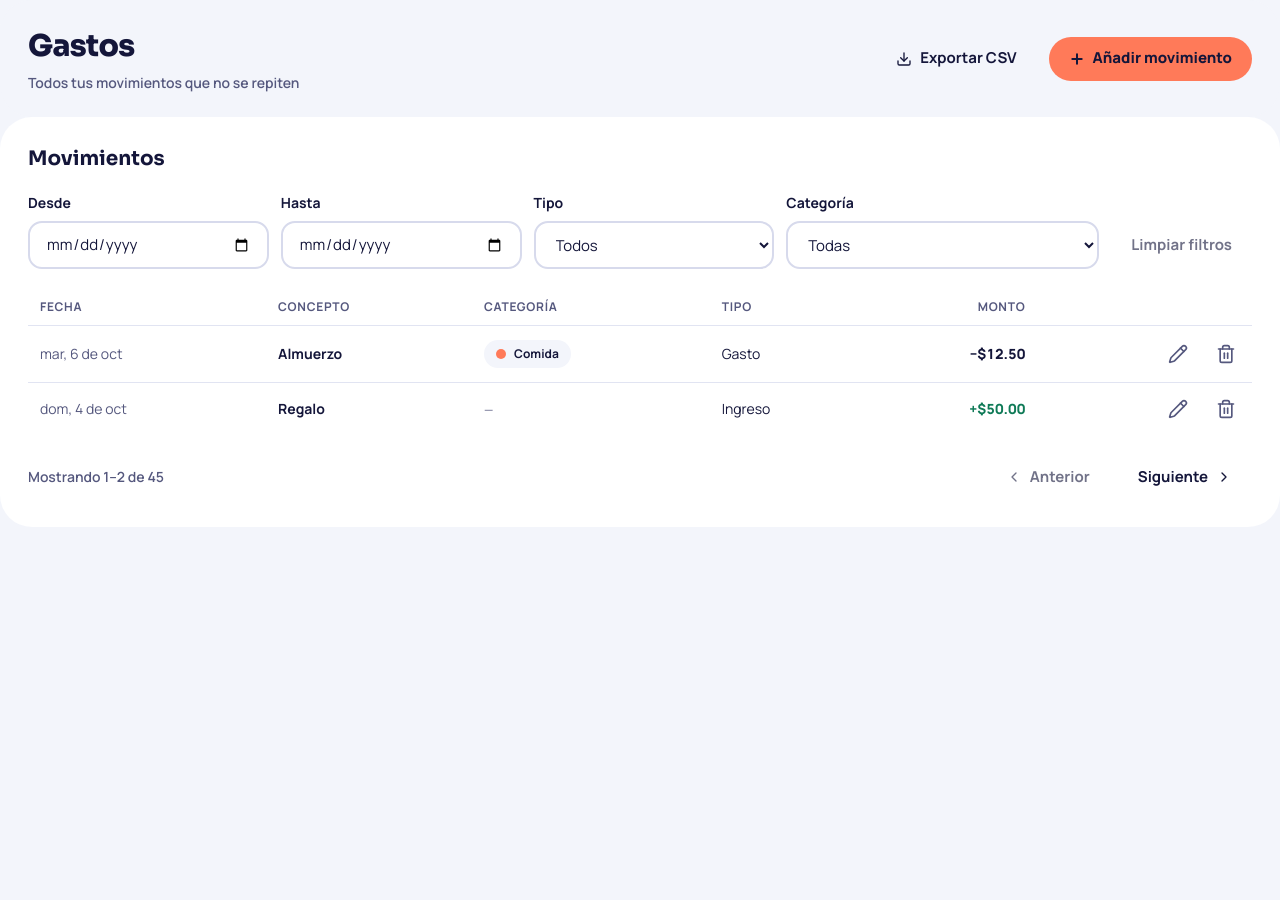
it: TransactionsPage › edits a movement with its values prefilled
The image size is (1280, 900).
Click the 1st button named "Editar Almuerzo": (1178, 354) [1156,332,1200,376]
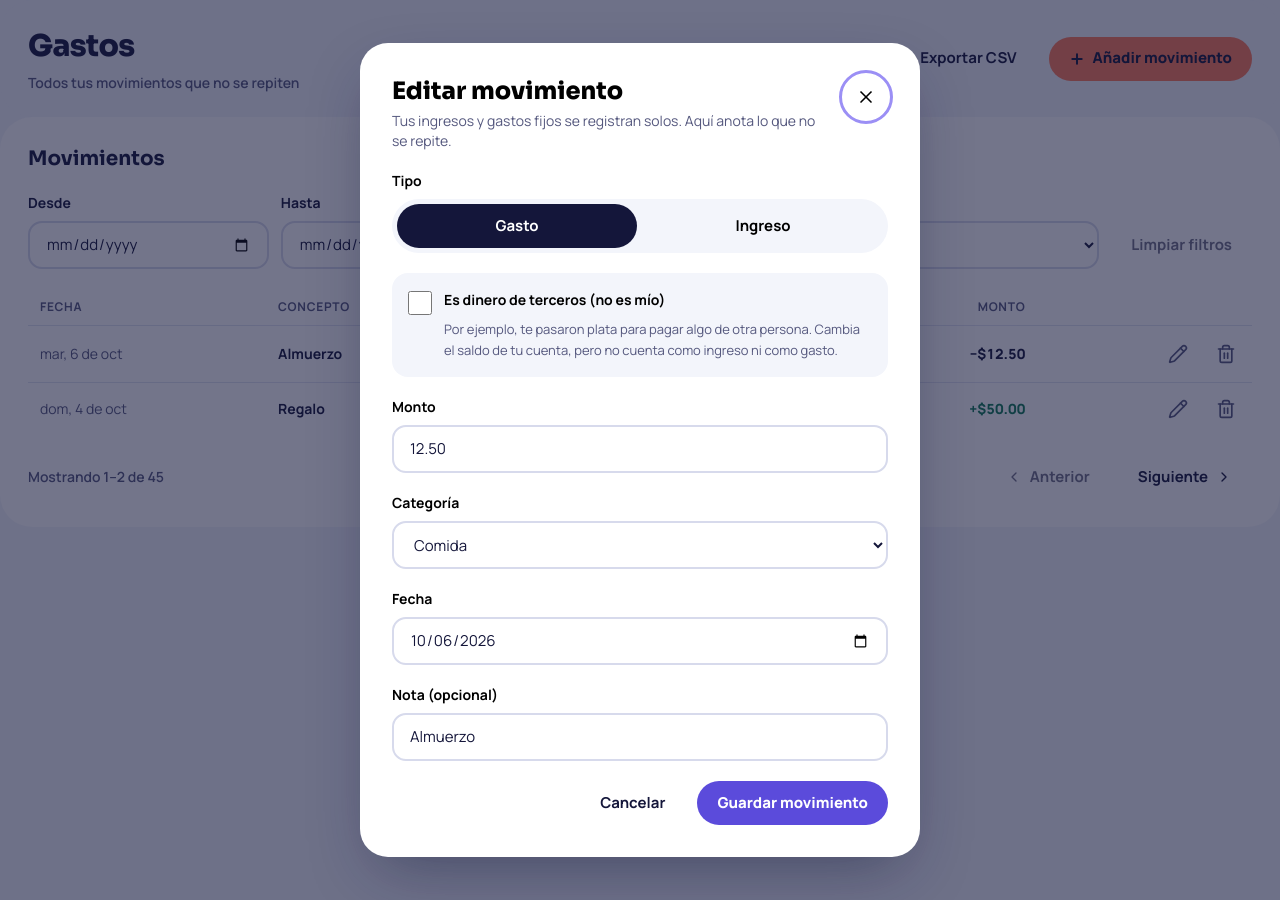
Expected: the field labelled "Monto" holds "12.50", [392,425,888,473]
Click the button "Guardar movimiento": (793, 803) [697,781,888,825]
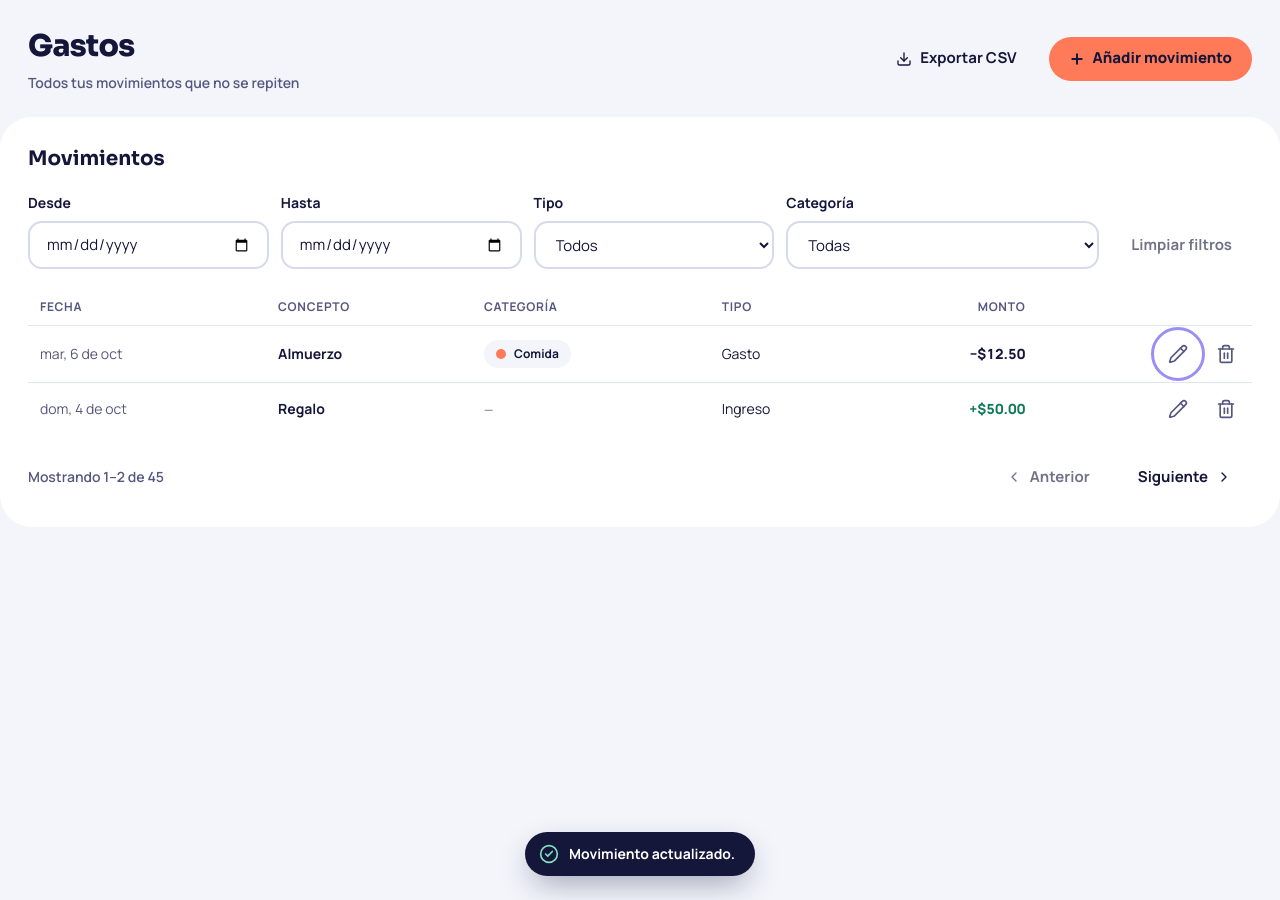
Expected: the message reads "Movimiento actualizado.", [569,844,735,863]
